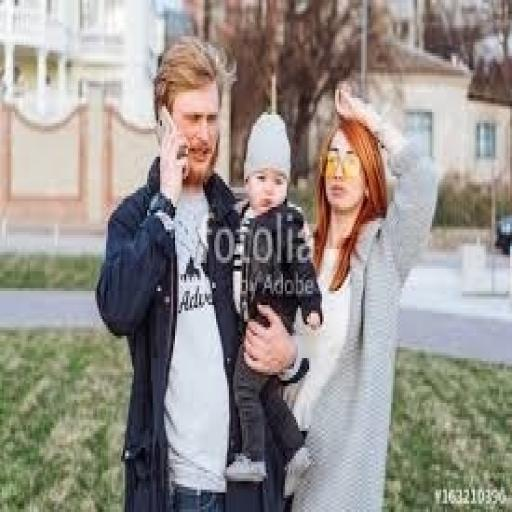hugging: (93, 31, 441, 509), (250, 81, 442, 509), (93, 34, 244, 509), (227, 109, 324, 509)
